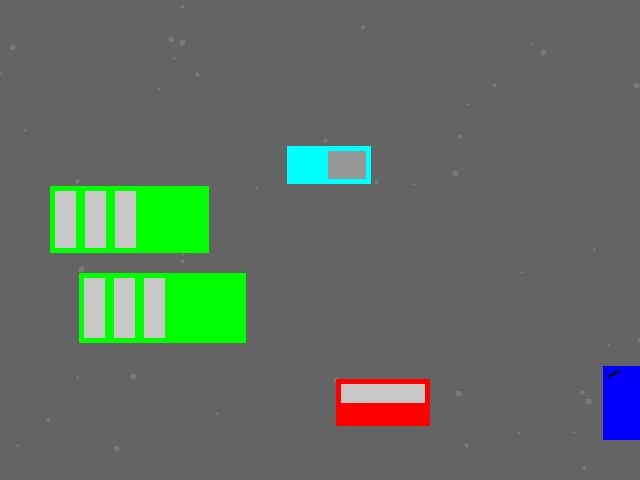bus: (79, 273, 245, 342), (50, 186, 208, 252)
car: (336, 379, 429, 425)
motorcycle: (603, 366, 639, 439)
truck: (287, 146, 370, 183)
